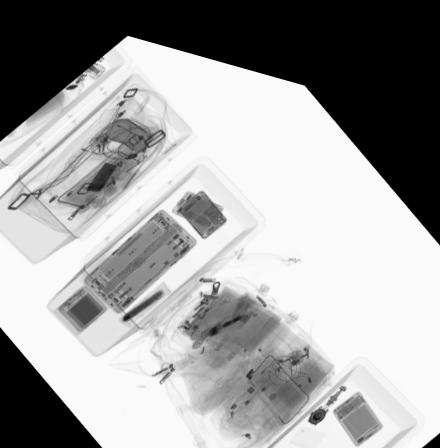Powerbank: (53, 276, 110, 329)
